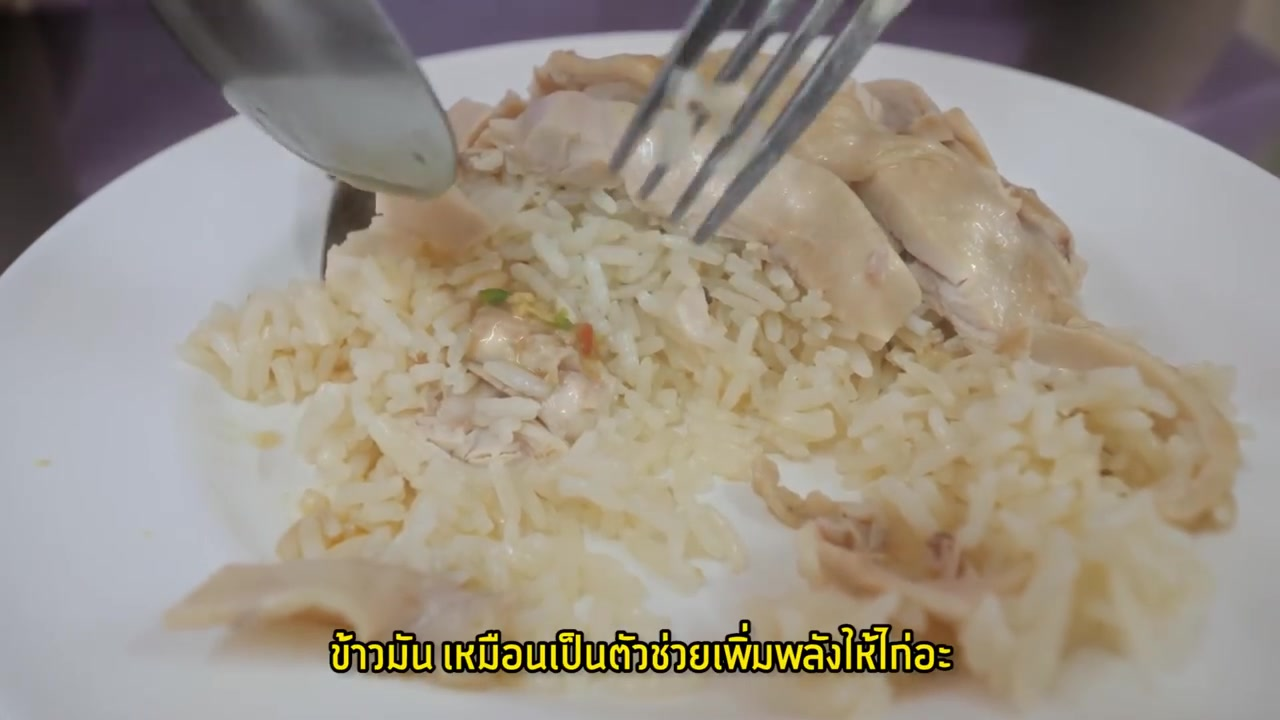text-label: (325, 616, 959, 677)
